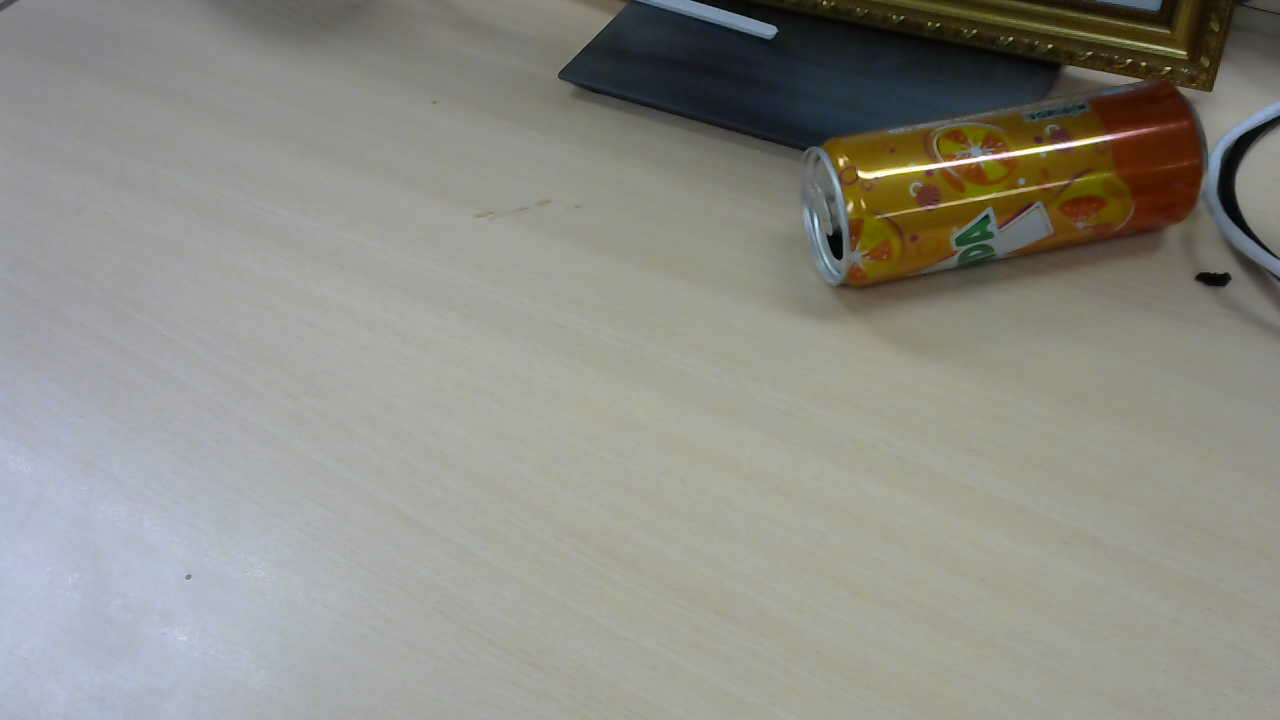Mirinda: (805, 80, 1215, 295)
